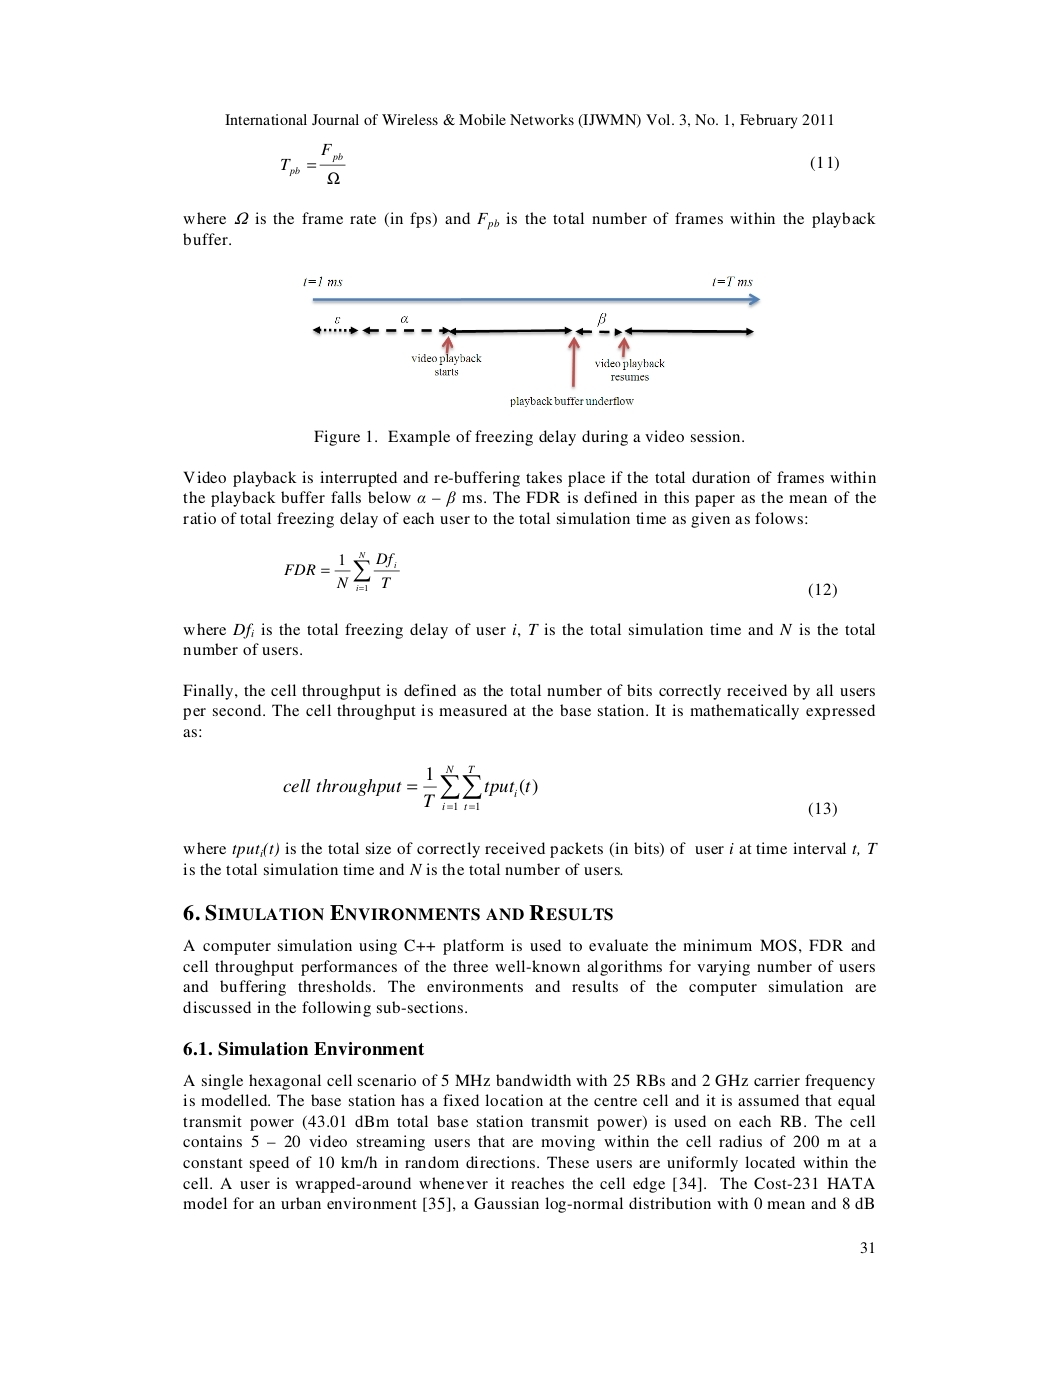figure: (303, 276, 759, 406)
formula: (283, 765, 836, 817), (284, 551, 836, 598), (281, 142, 838, 184)
